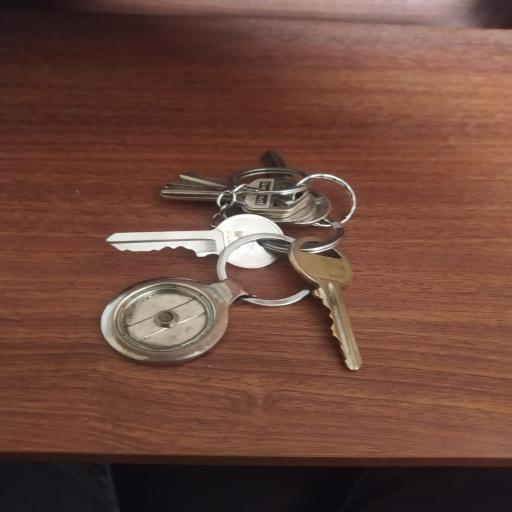Llaves: (95, 140, 375, 384)
